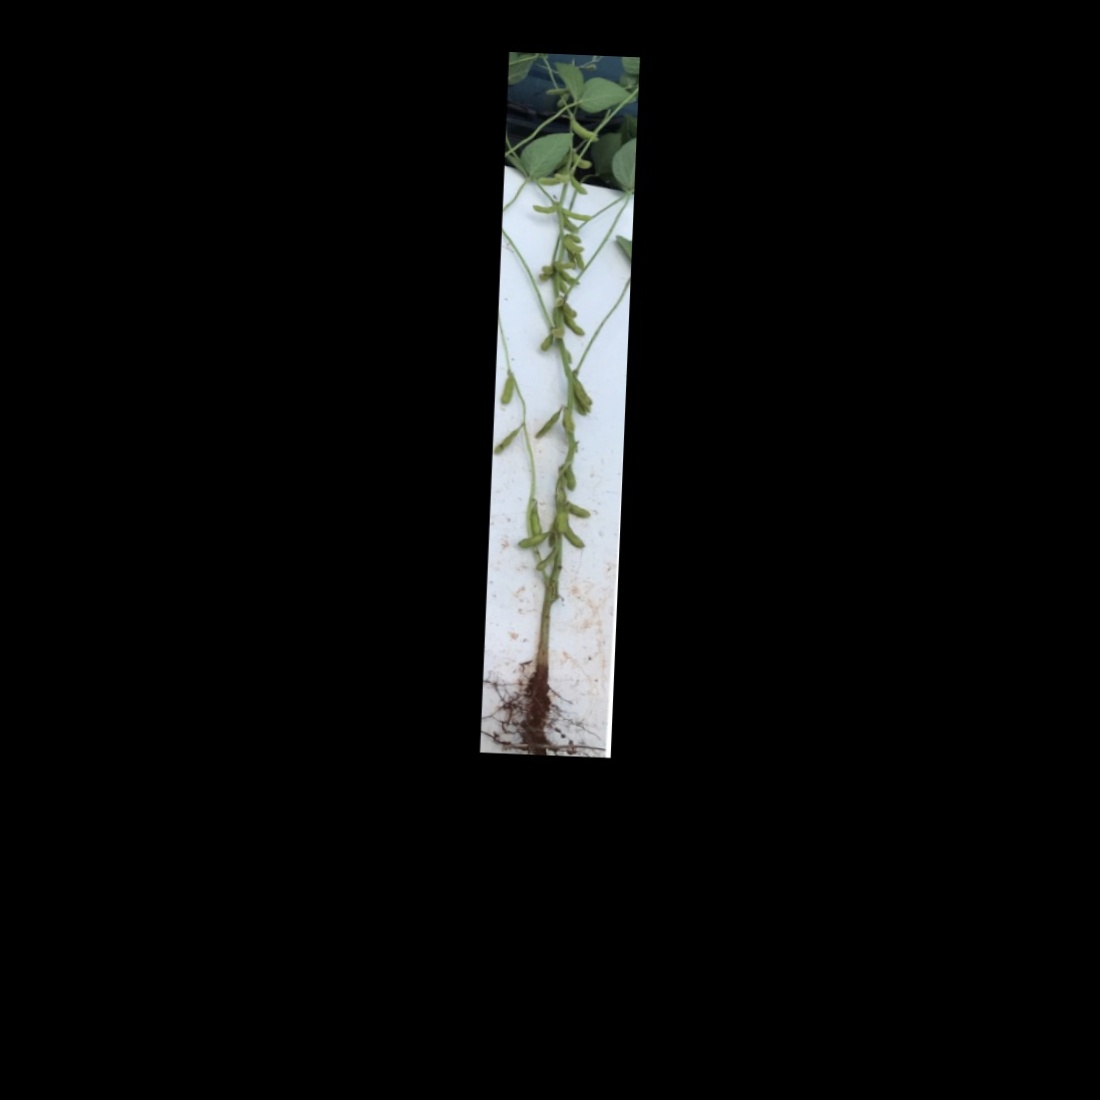pod: (533, 403, 566, 444), (494, 423, 527, 457), (569, 116, 600, 141), (528, 499, 548, 537), (498, 373, 516, 408), (535, 545, 557, 571), (560, 208, 596, 223), (551, 258, 579, 272), (529, 203, 560, 214)
soy: (483, 53, 637, 755)
